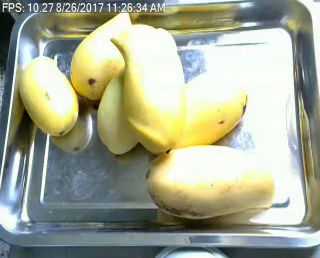Mango: (109, 23, 184, 151), (146, 144, 274, 217), (72, 8, 132, 98), (179, 68, 247, 147), (19, 57, 79, 138), (97, 61, 141, 153)
